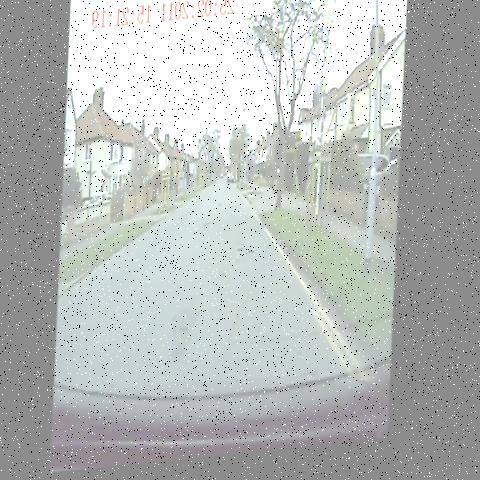pothole: (173, 323, 204, 361), (240, 245, 259, 268), (221, 264, 235, 294), (229, 200, 246, 222), (205, 221, 216, 242), (218, 197, 227, 213)
